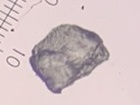microplastic: (28, 22, 112, 96)
